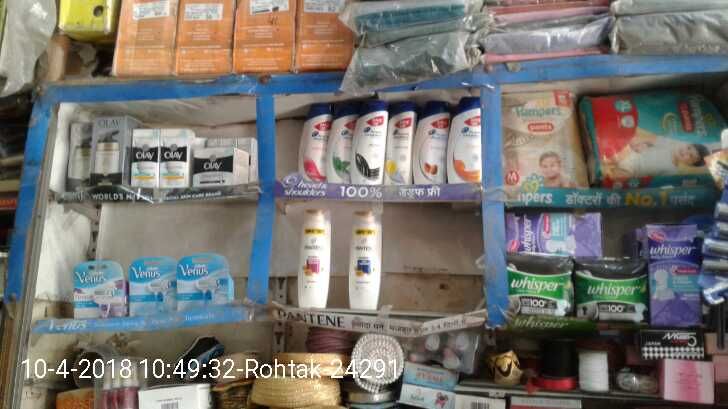venus: (73, 257, 130, 320), (176, 254, 231, 312), (129, 254, 175, 319)
